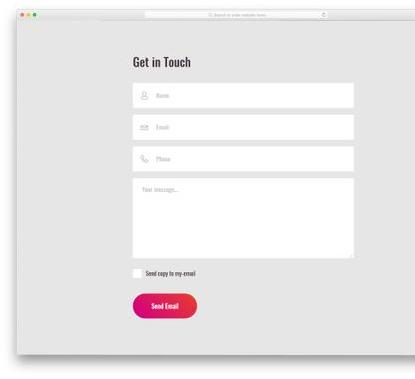button: (130, 292, 200, 321)
checkbox: (131, 267, 142, 280)
checkbox_with_label: (129, 265, 196, 282)
field: (131, 177, 355, 261), (130, 82, 355, 111), (131, 145, 355, 174), (130, 114, 356, 142)
